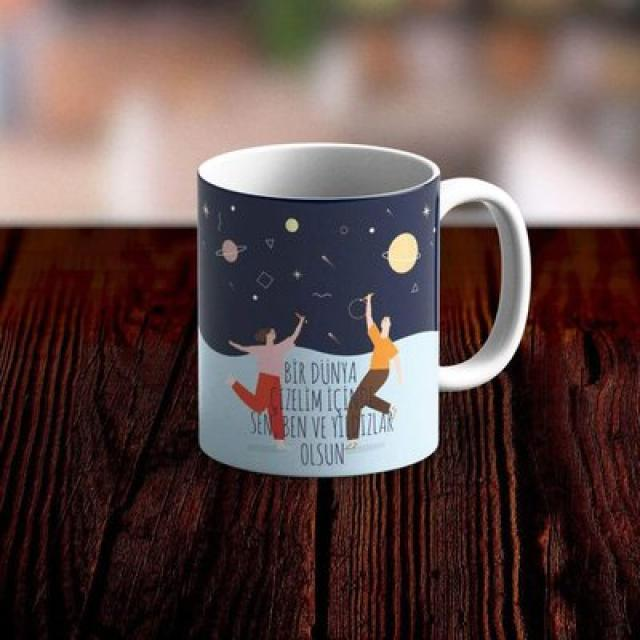Coffee Mug: (196, 142, 534, 477)
